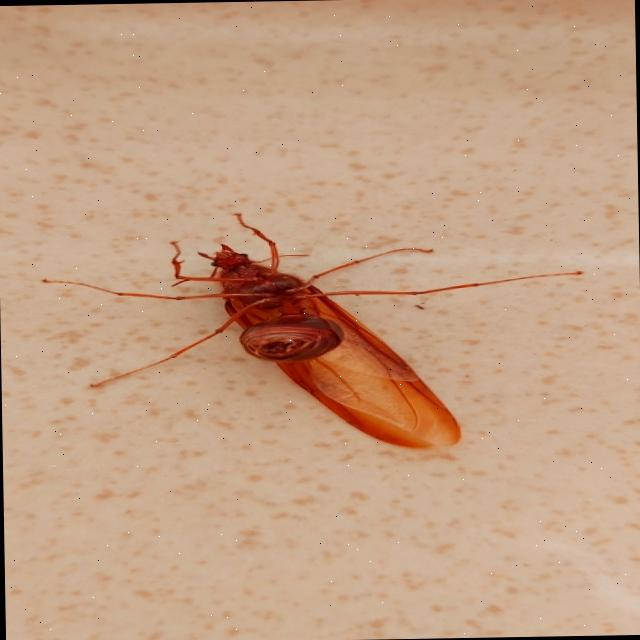Dead-Male-Alate: (41, 206, 586, 454)
